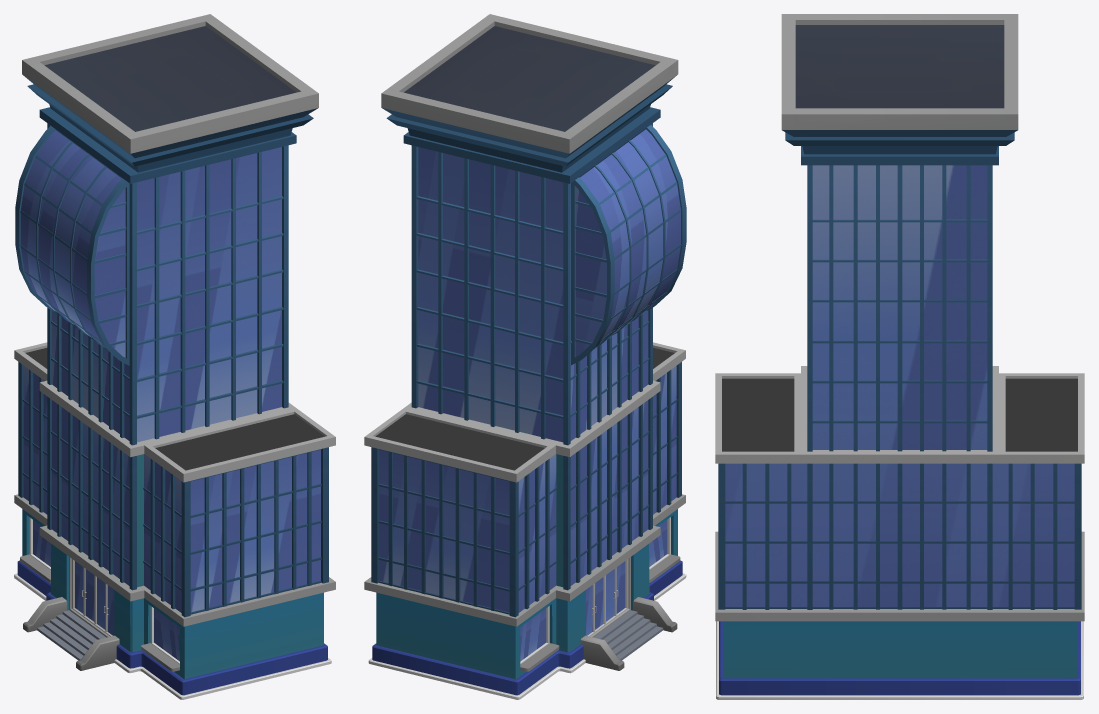
Rendered from Building_15_E.glb.
The picture shows the model from 3 angles, left to right: view 1: azimuth 30°, elevation 25°; view 2: azimuth 150°, elevation 25°; view 3: azimuth 270°, elevation 25°; orthographic projection. The views are drawn at different scales.
Visible parts, largest first — view 1: Building_15_E; view 2: Building_15_E; view 3: Building_15_E.
Part boxes in pixels (bbox=[...]): Building_15_E: bbox=[14, 14, 335, 699]; Building_15_E: bbox=[364, 14, 686, 699]; Building_15_E: bbox=[715, 14, 1084, 699].
Size of the model in its own units: 8.6 by 21 by 11.83.
4 materials, 4 textured.
